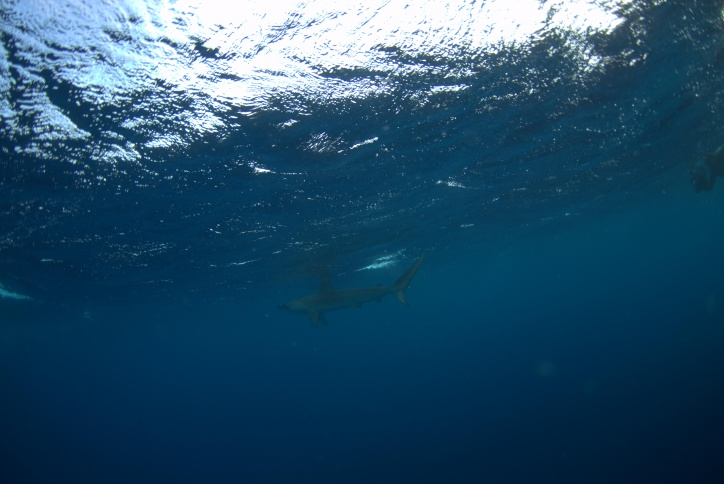Hammer: (259, 254, 425, 337)
